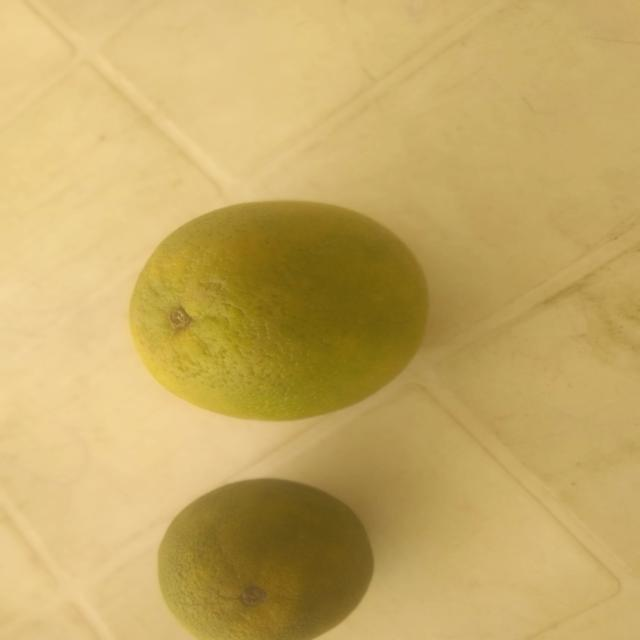Unripe: (128, 200, 442, 427), (117, 470, 394, 640)
